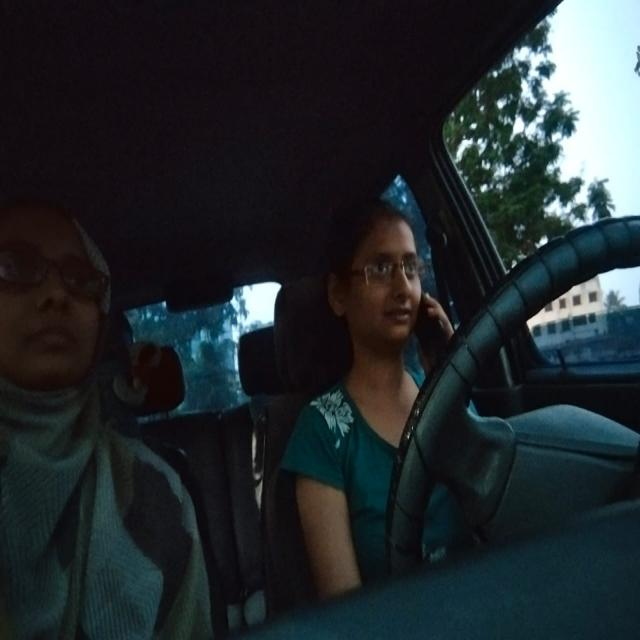mobile: (418, 290, 452, 373)
person: (1, 192, 125, 436), (327, 190, 422, 383)
